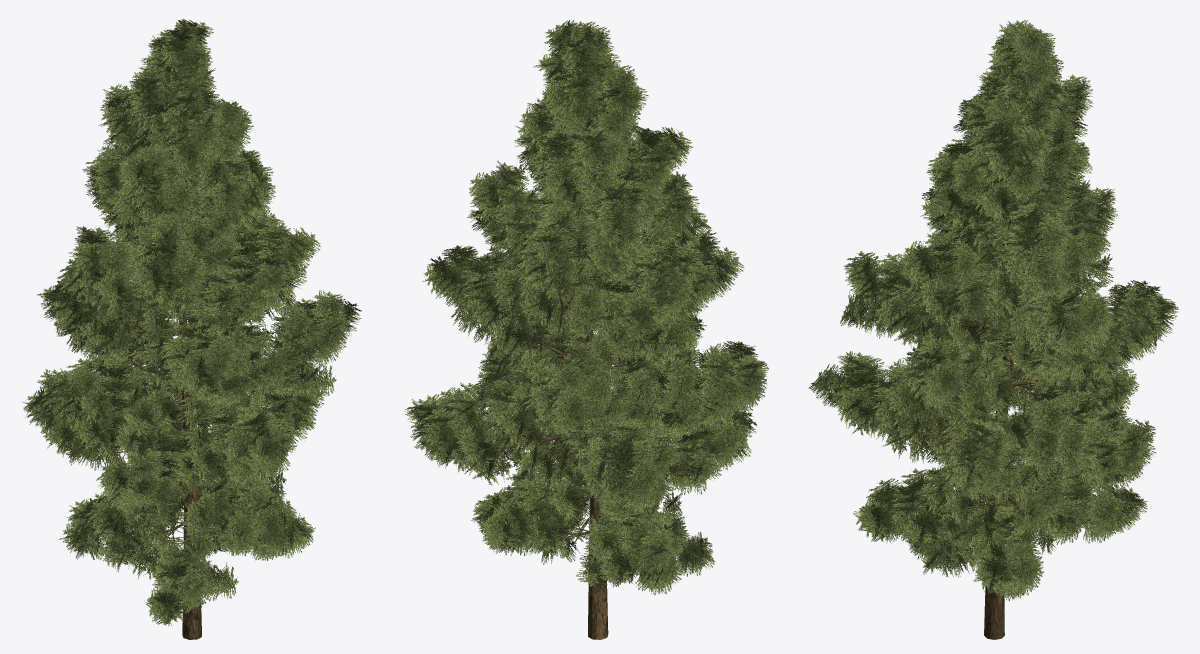
The model's file is Arbol2.obj.
3 renders of one model, left to right at view 1: azimuth 30°, elevation 25°; view 2: azimuth 150°, elevation 25°; view 3: azimuth 270°, elevation 25°, orthographic. The views are drawn at different scales.
Visible parts, largest first — view 1: leaves, tree; view 2: leaves, tree; view 3: leaves, tree.
Boxes of the visible parts, bbox=[...] form: leaves: bbox=[22, 18, 361, 625]; tree: bbox=[48, 102, 330, 639]; leaves: bbox=[405, 20, 768, 595]; tree: bbox=[439, 94, 726, 639]; leaves: bbox=[808, 19, 1178, 601]; tree: bbox=[854, 112, 1148, 639].
Bounding box in the file's own units: 9.81 × 18.2 × 10.18.
Materials: 2 (2 with a texture image).
